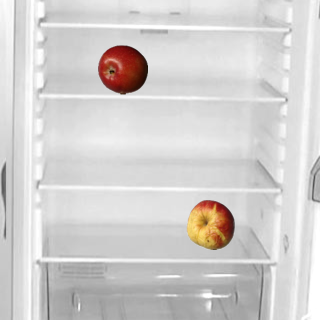Apple Braeburn: (97, 44, 147, 94)
Apple Red Yellow 1: (185, 199, 235, 249)
